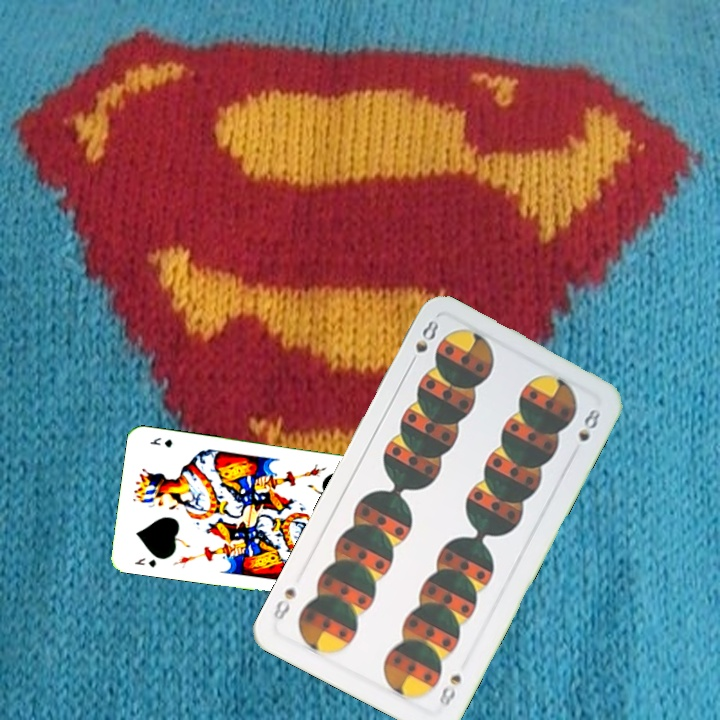GK: (131, 554, 158, 570)
S8: (404, 316, 442, 370), (435, 670, 464, 711)
